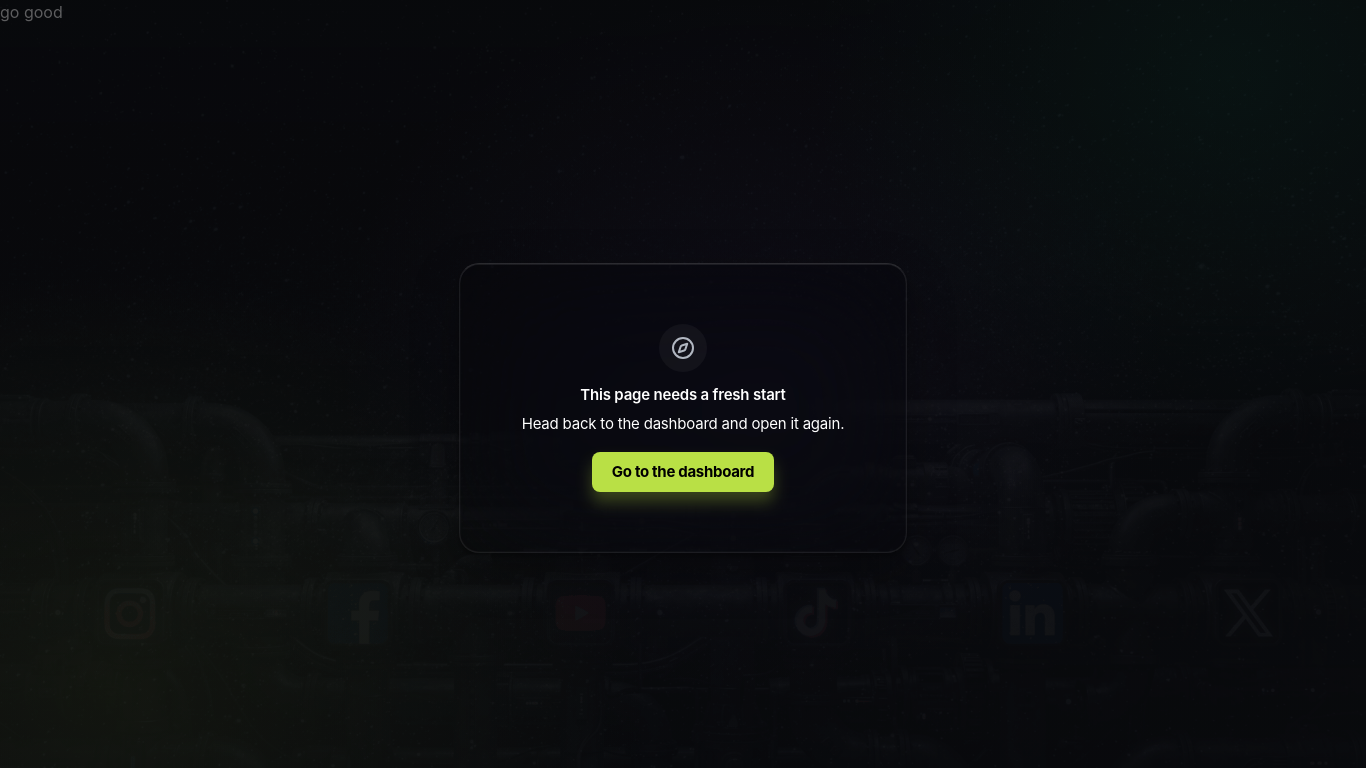
Test: ErrorBoundary › leaves the fallback when the person goes to another route
Expected: the text "good page" is not shown
Click the link "go good".
click(31, 12)  # box [0,2,63,22]
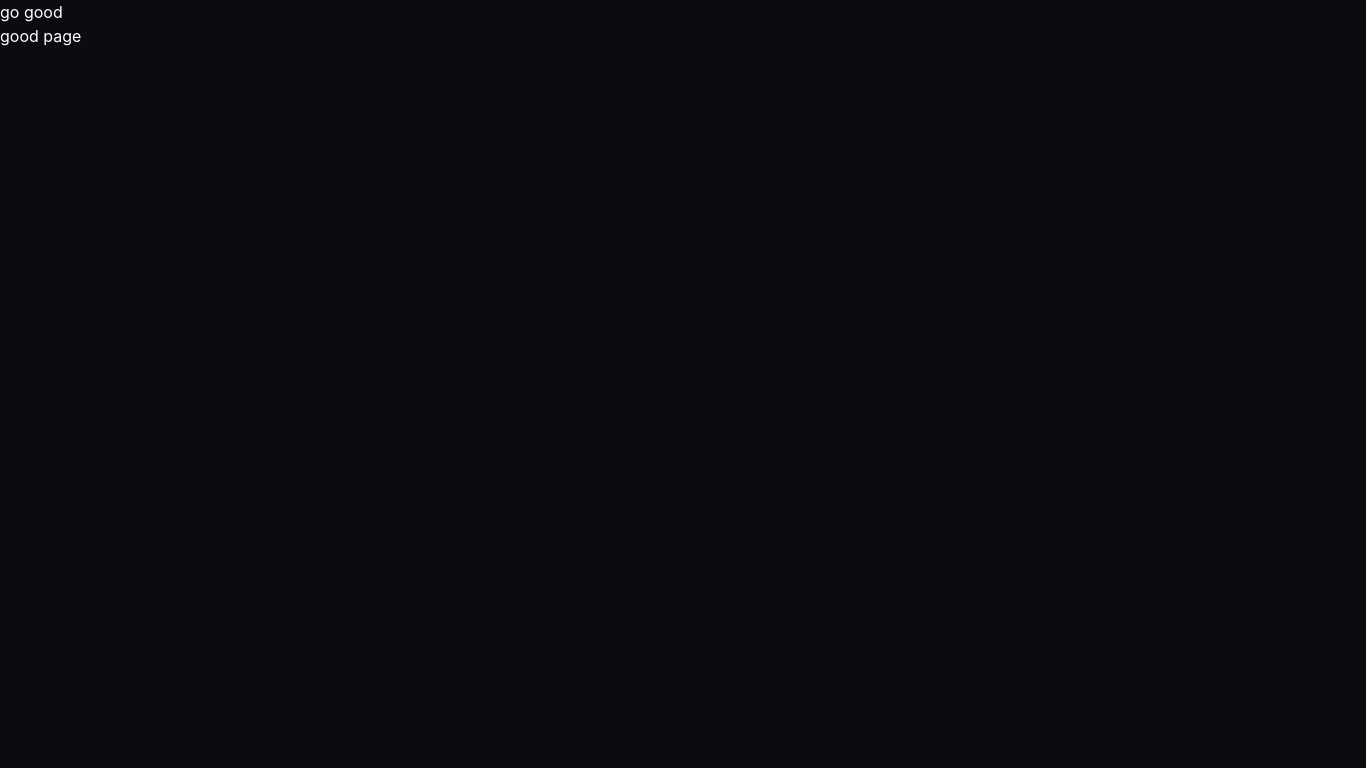
Expected: the text "good page" is shown, [0,26,81,46]
